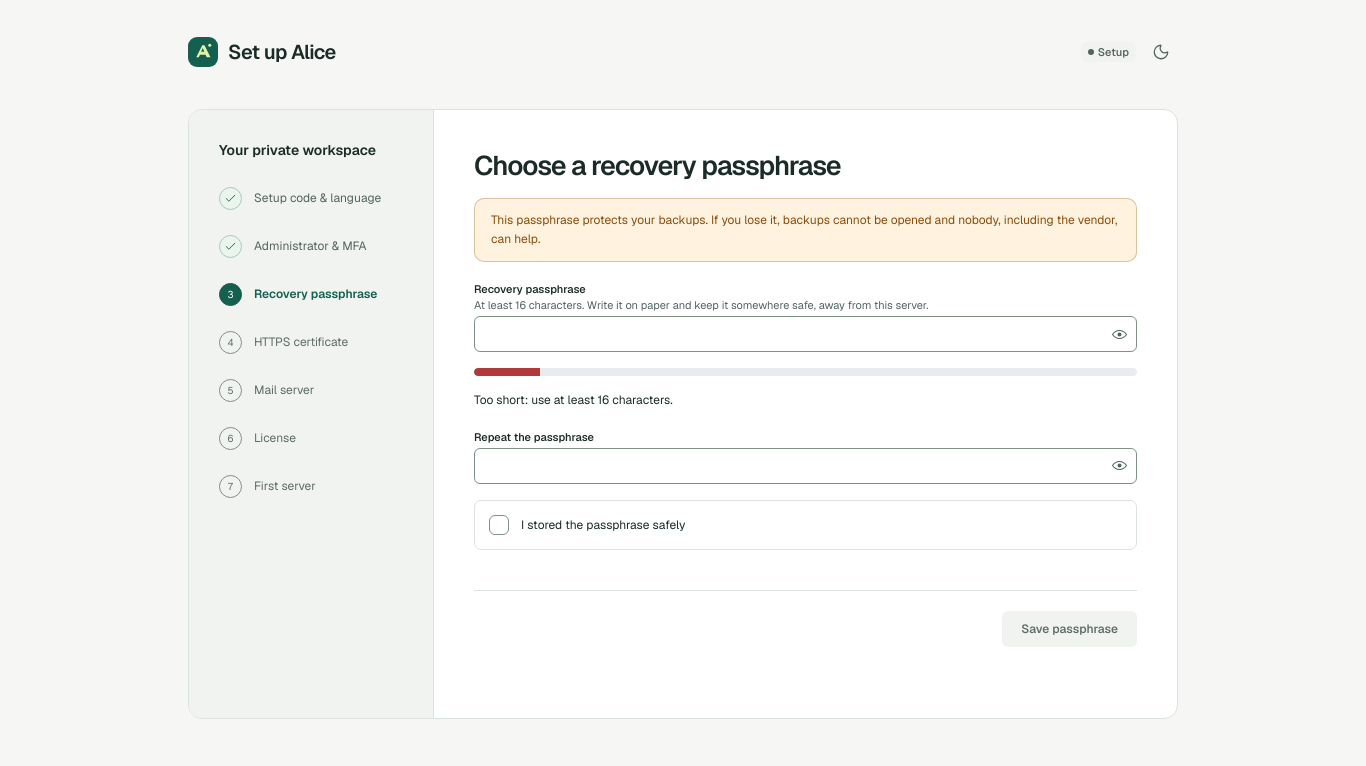
Scenario: setup wizard › asks the returning admin to confirm with a code before saving the passphrase
Expected: the heading "Choose a recovery passphrase" is shown, [474,148,841,183]
In the password field labelled "Recovery passphrase": (806, 334) [475,318,1136,352], type "correct horse battery staple"
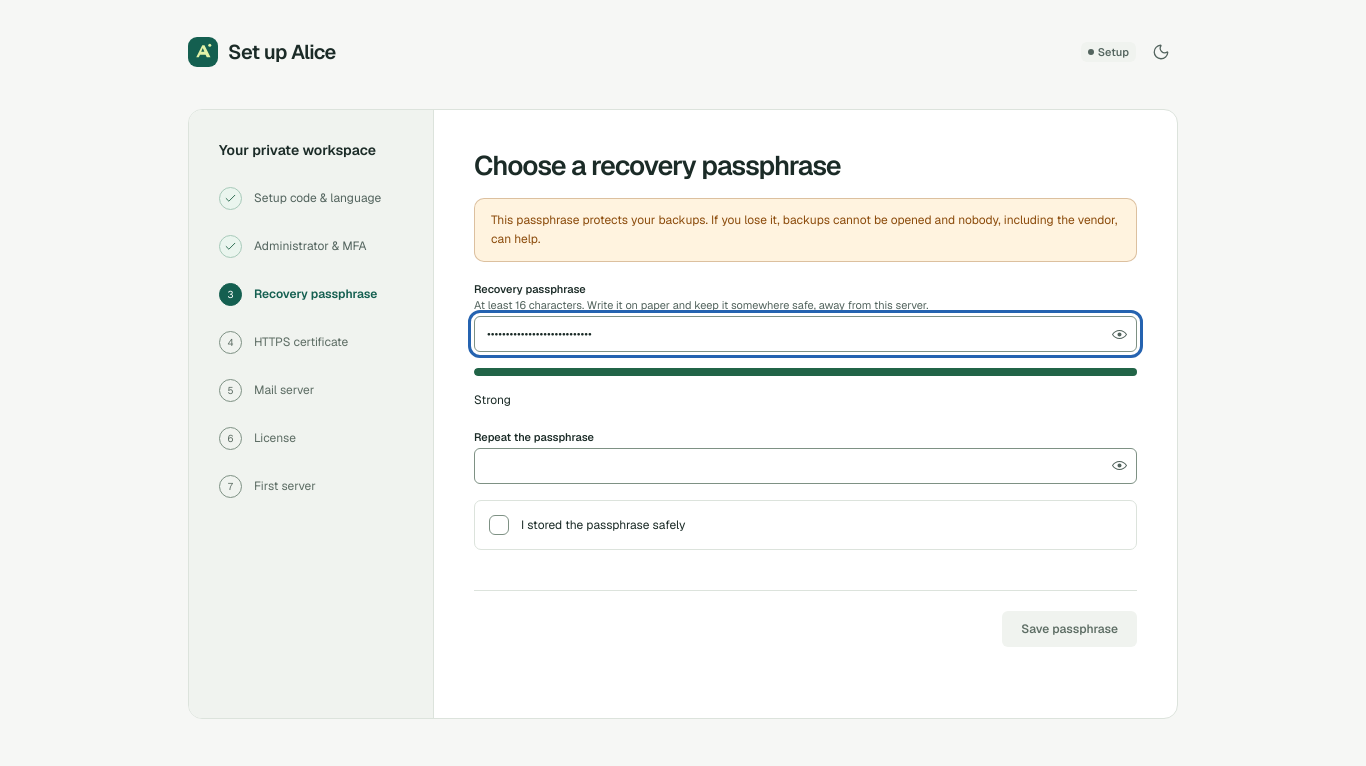
In the password field labelled "Repeat the passphrase": (806, 466) [475,448,1136,482], type "correct horse battery staple"
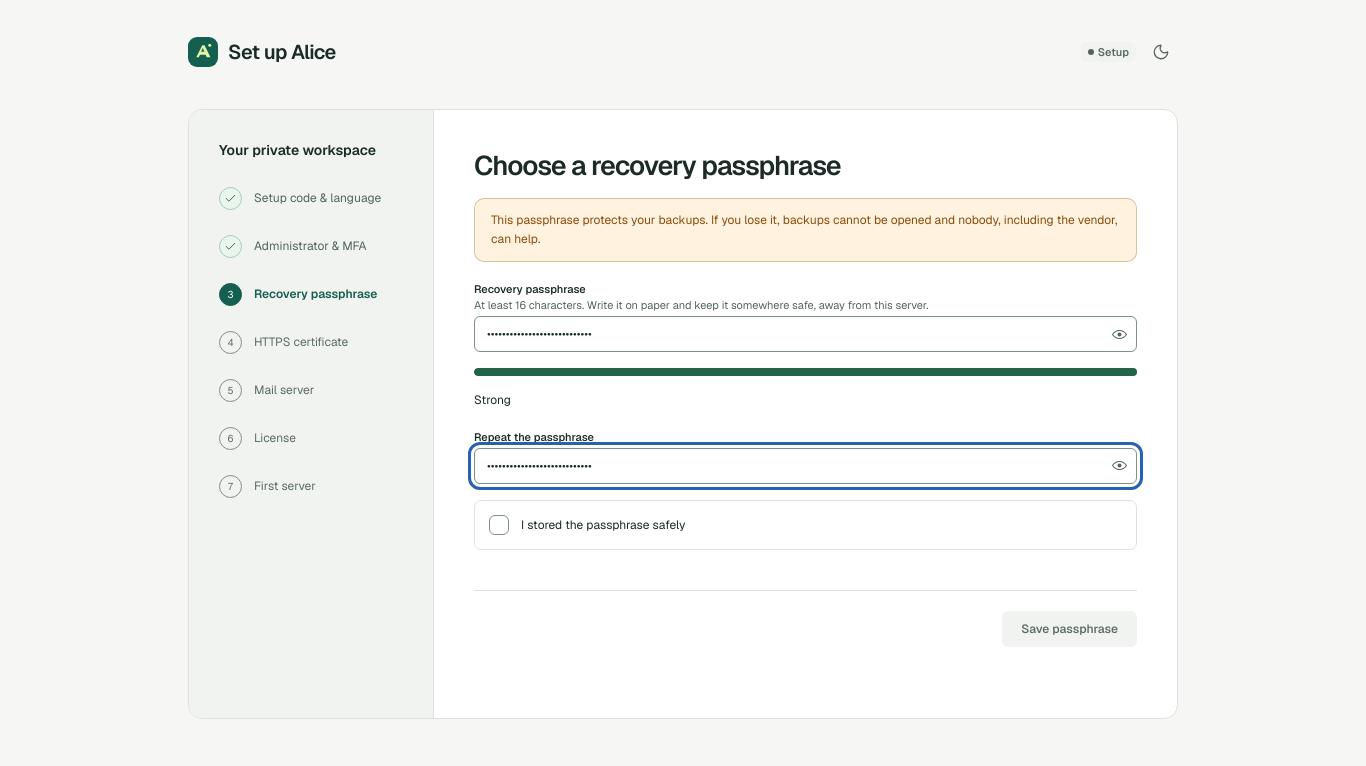
Click the checkbox labelled "I stored the passphrase safely": (499, 524) [489,514,509,534]
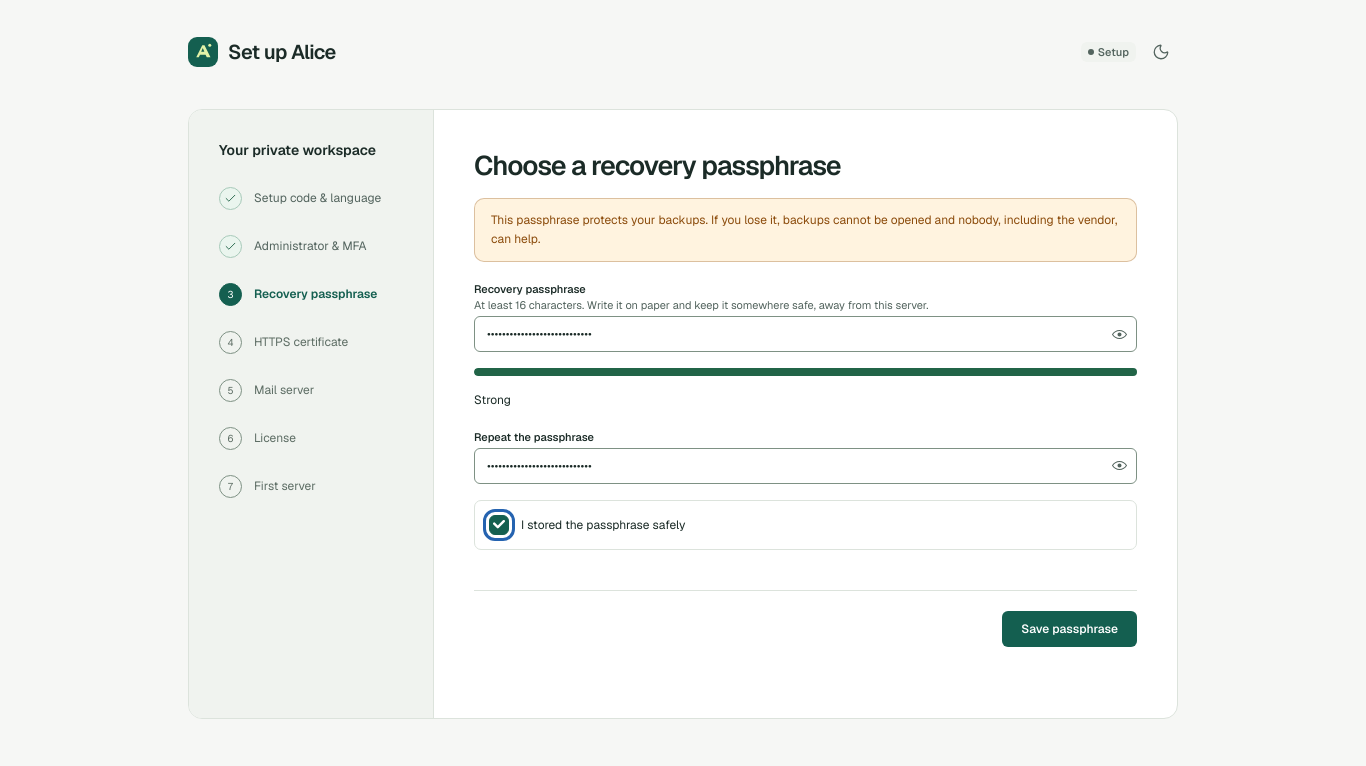
Click the button "Save passphrase": (1070, 628) [1002,610,1137,646]
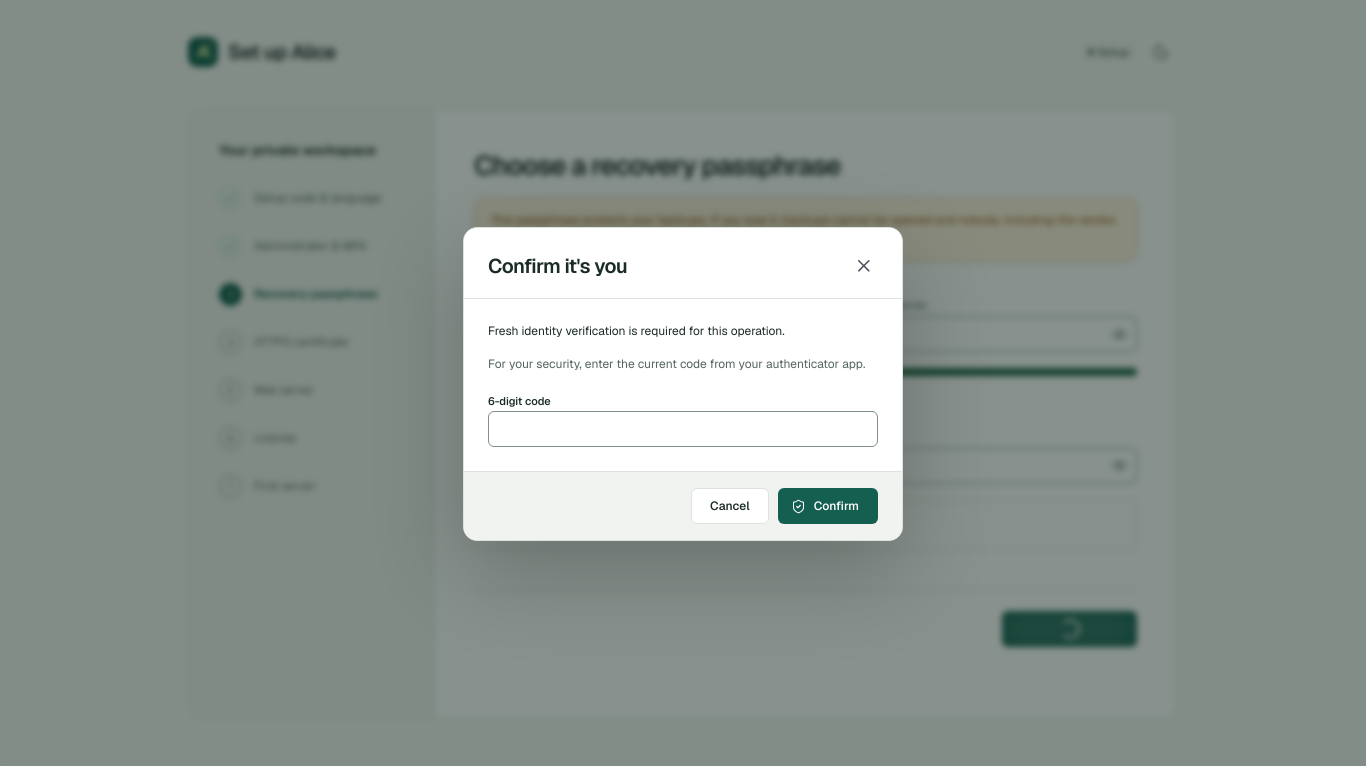
Now the dialog "Confirm it's you" is shown, box [463,227,903,541]
In the field labelled "6-digit code": (683, 429) [488,411,878,447], type "654321"
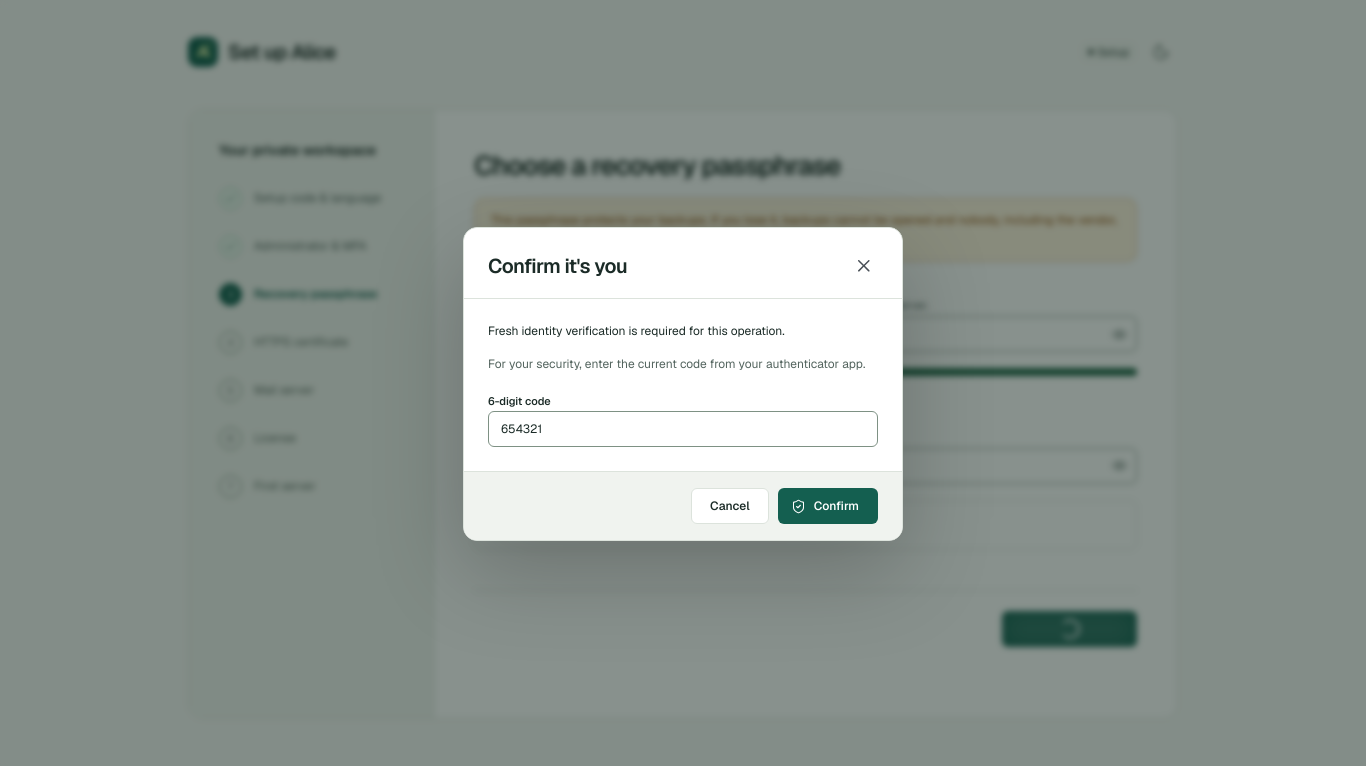
Click the button "Confirm": (828, 506) [778,488,878,524]
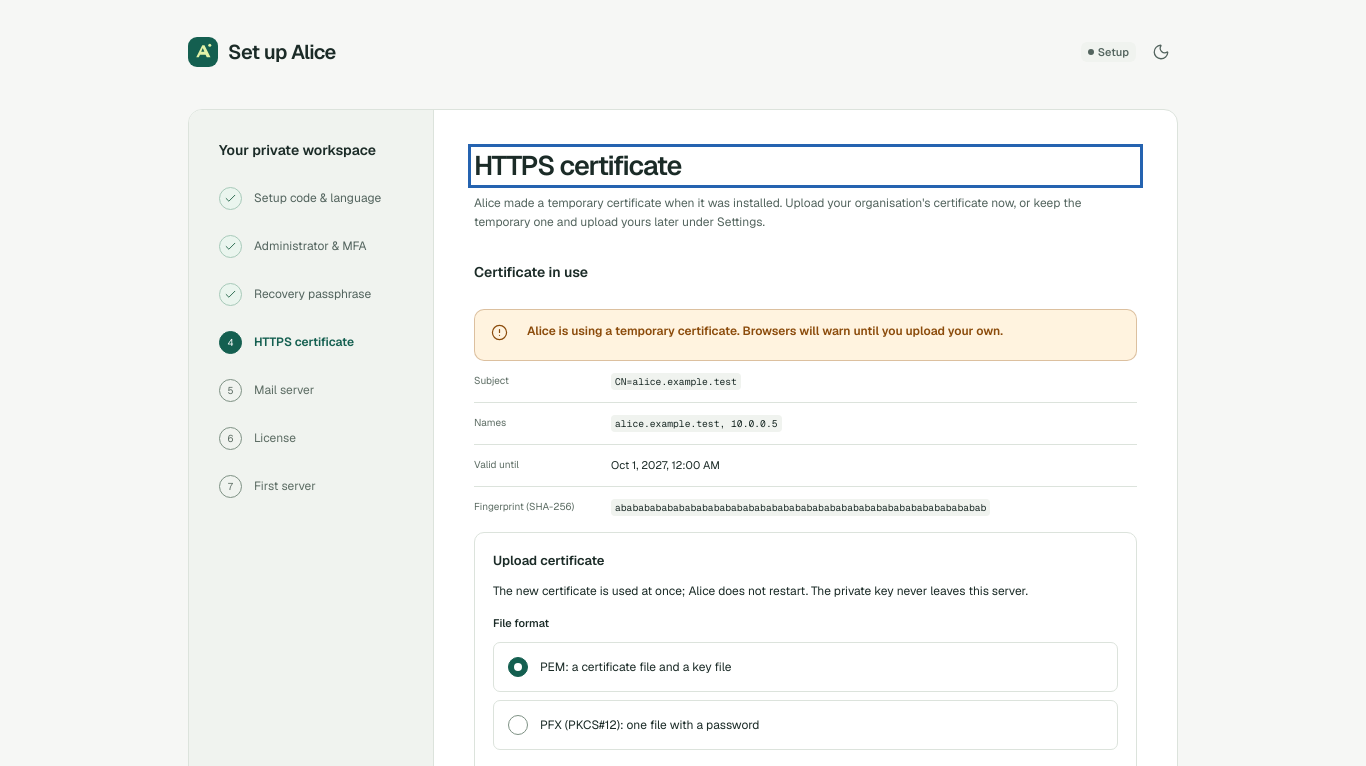
Now the heading "HTTPS certificate" is shown, box [474,148,681,183]
